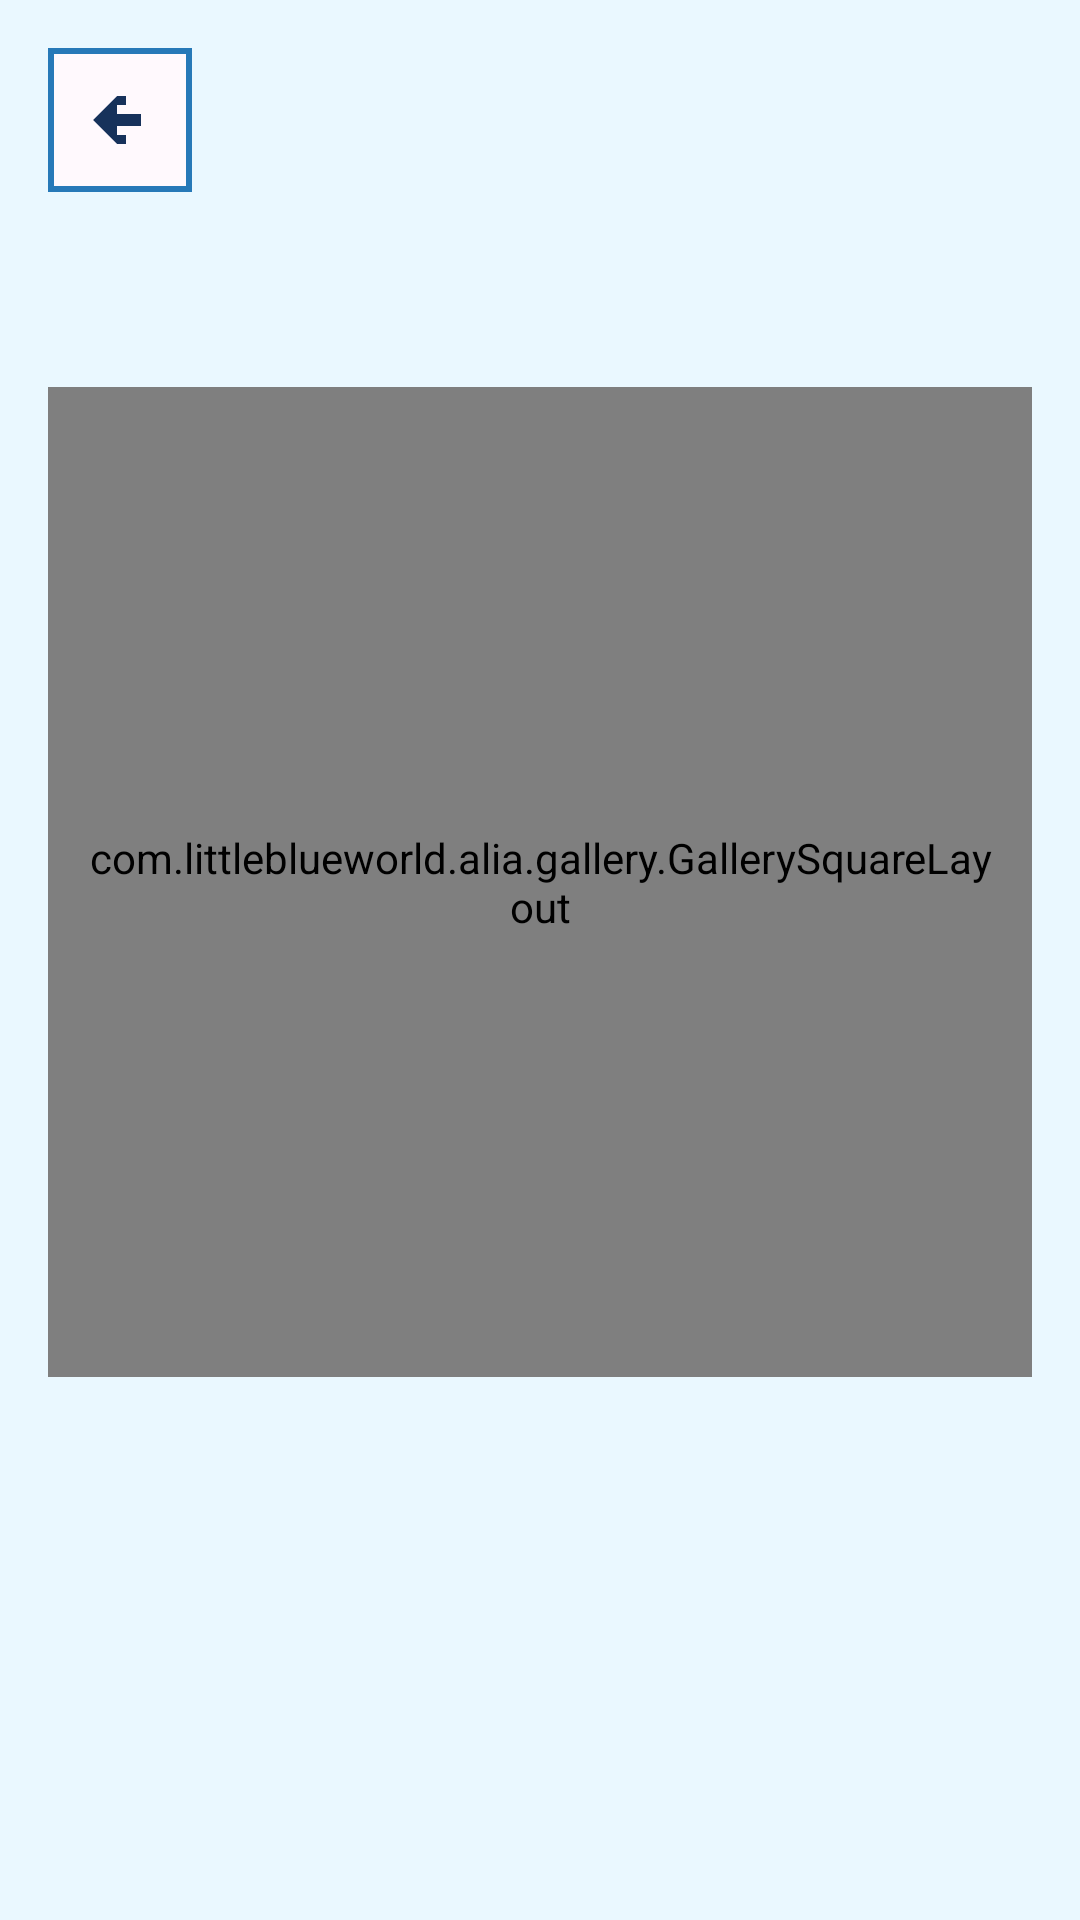

Point at icon controls on the screen. Image size 1080 x 1920, points as point (x, y).
Back to Little Blue World: point (120, 120)
